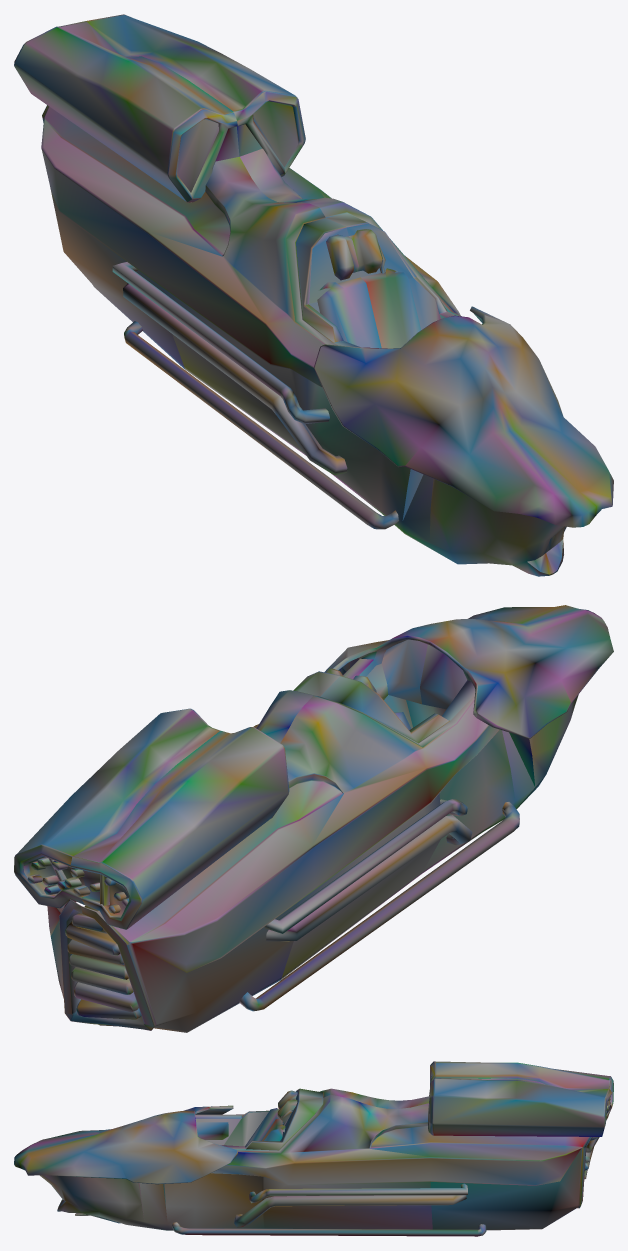
Rendered from ASE_Shrike_Gib_Body.gltf.
The picture shows the model from 3 angles, top to bottom: view 1: azimuth 30°, elevation 25°; view 2: azimuth 150°, elevation 25°; view 3: azimuth 270°, elevation 25°; orthographic projection. The views are drawn at different scales.
Parts seen in each view (by area): view 1: ASE_Shrike_Gib_Body; view 2: ASE_Shrike_Gib_Body; view 3: ASE_Shrike_Gib_Body.
Boxes of the visible parts, x1,y1,x2,y2 form: ASE_Shrike_Gib_Body: [14, 14, 613, 576]; ASE_Shrike_Gib_Body: [14, 605, 613, 1032]; ASE_Shrike_Gib_Body: [14, 1061, 613, 1236].
Size of the model in its own units: 0.7234 by 0.9279 by 3.25.
